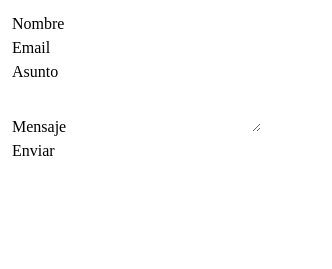
Test: Contacto - Validaciones › muestra mensajes de error al intentar enviar con campos vacíos
What coordinates should you click on to do the following:
click the button "Enviar"
I would click on:
 (33, 151)
Its box is [12, 139, 55, 163].
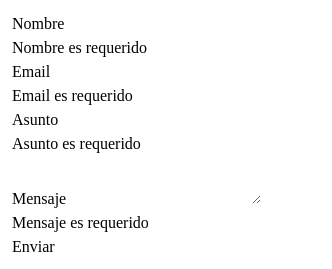
expect the text "Nombre es requerido" is shown: met, box [12, 39, 147, 56]
expect the text "Email es requerido" is shown: met, box [12, 87, 133, 104]
expect the text "Asunto es requerido" is shown: met, box [12, 135, 141, 152]
